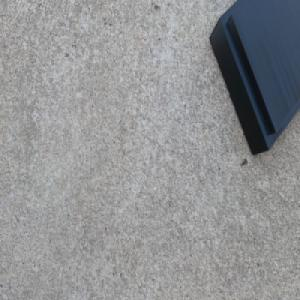PlasticPart: (208, 0, 300, 157)
